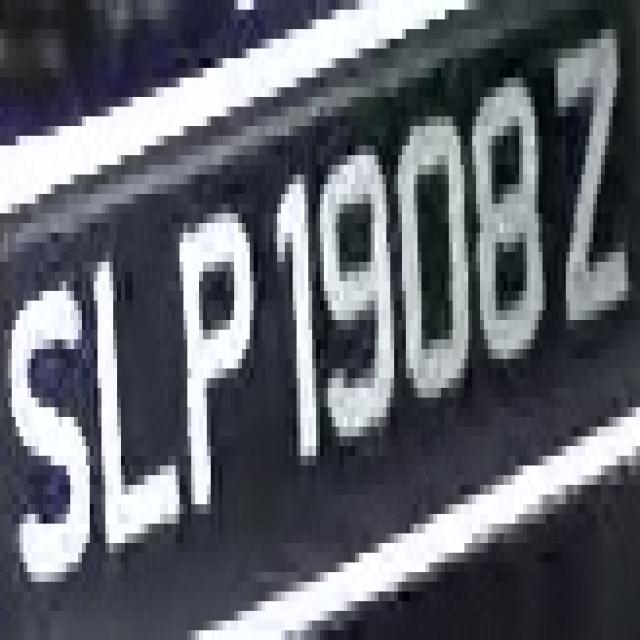0: (390, 87, 476, 417)
1: (273, 117, 324, 504)
8: (464, 58, 554, 398)
9: (308, 116, 394, 446)
L: (78, 233, 183, 572)
P: (172, 213, 265, 524)
S: (4, 242, 94, 582)
Z: (542, 9, 640, 358)
